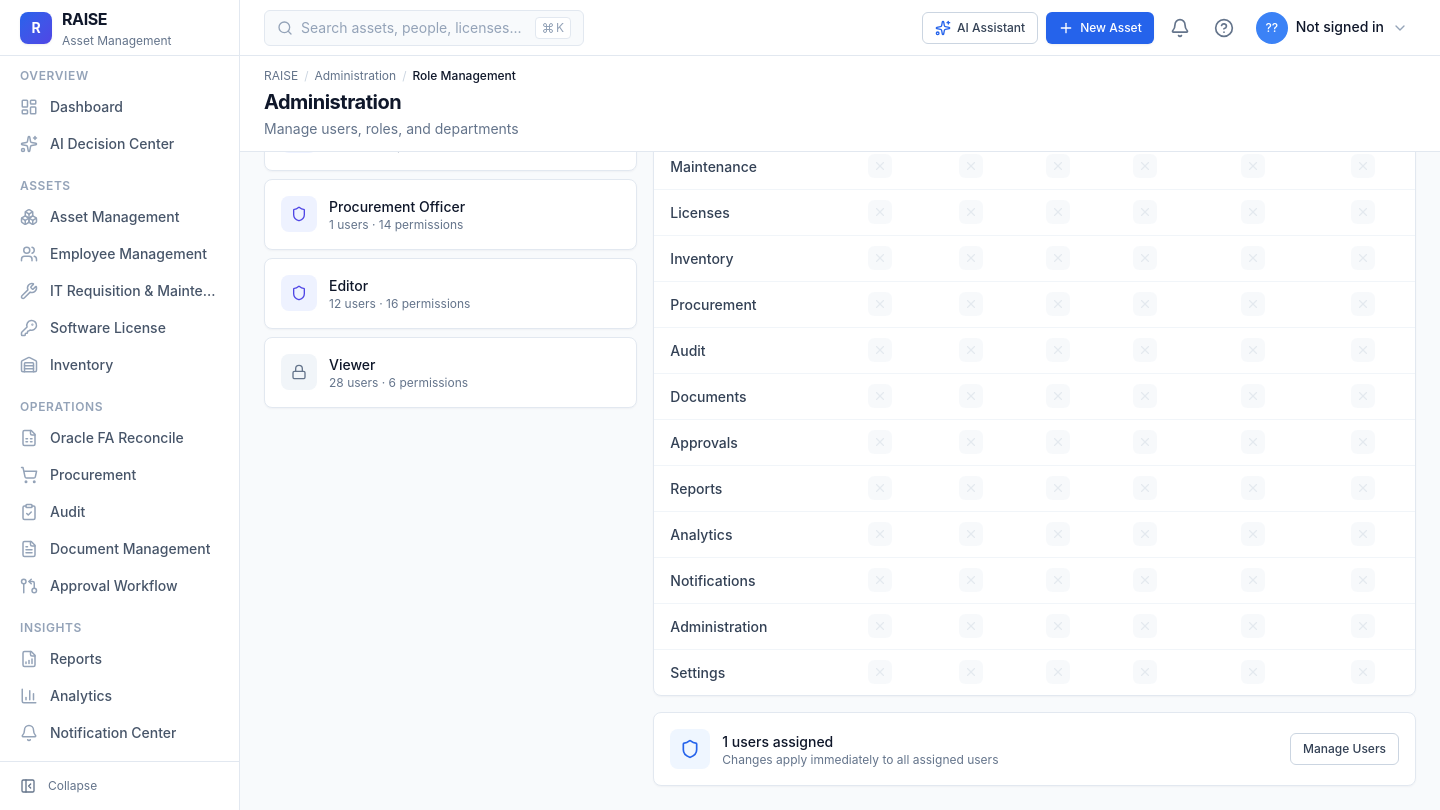
Test case: Administration routing › navigates from Role Management to User Management via "Manage Users"
(page scrolled)
Click the button "Manage Users".
click(1344, 749)  # box [1290,733,1399,765]
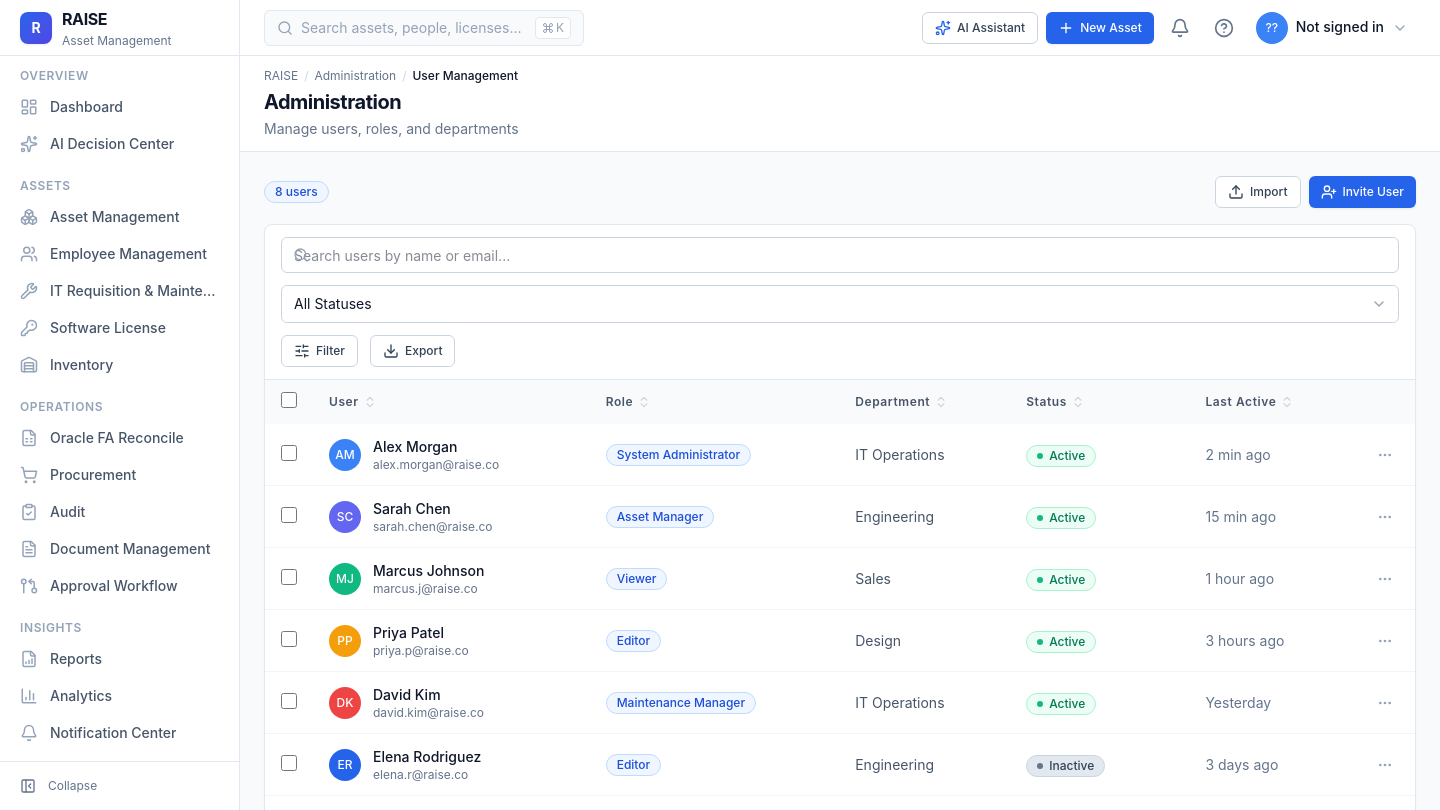
expect the text "Alex Morgan" is shown: met, box [373,438,457,455]
